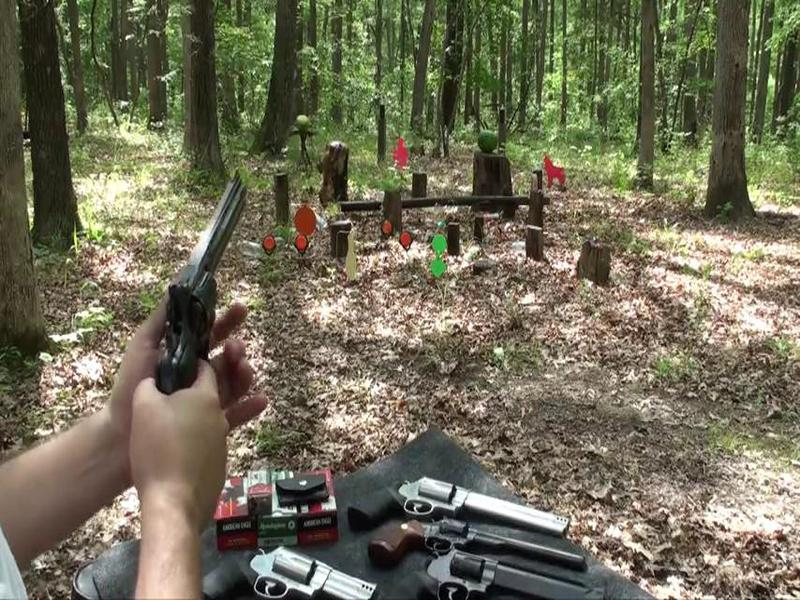Revolver: (131, 155, 266, 421)
